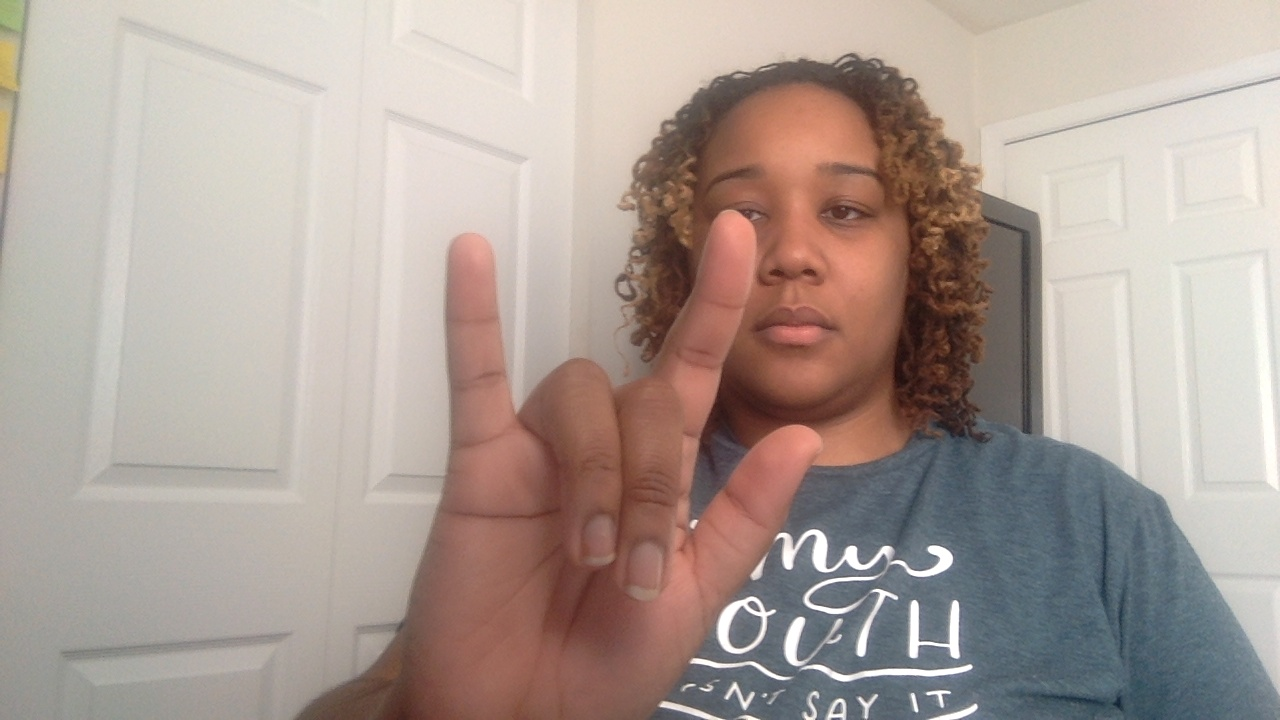i_love_you: (403, 206, 810, 720)
